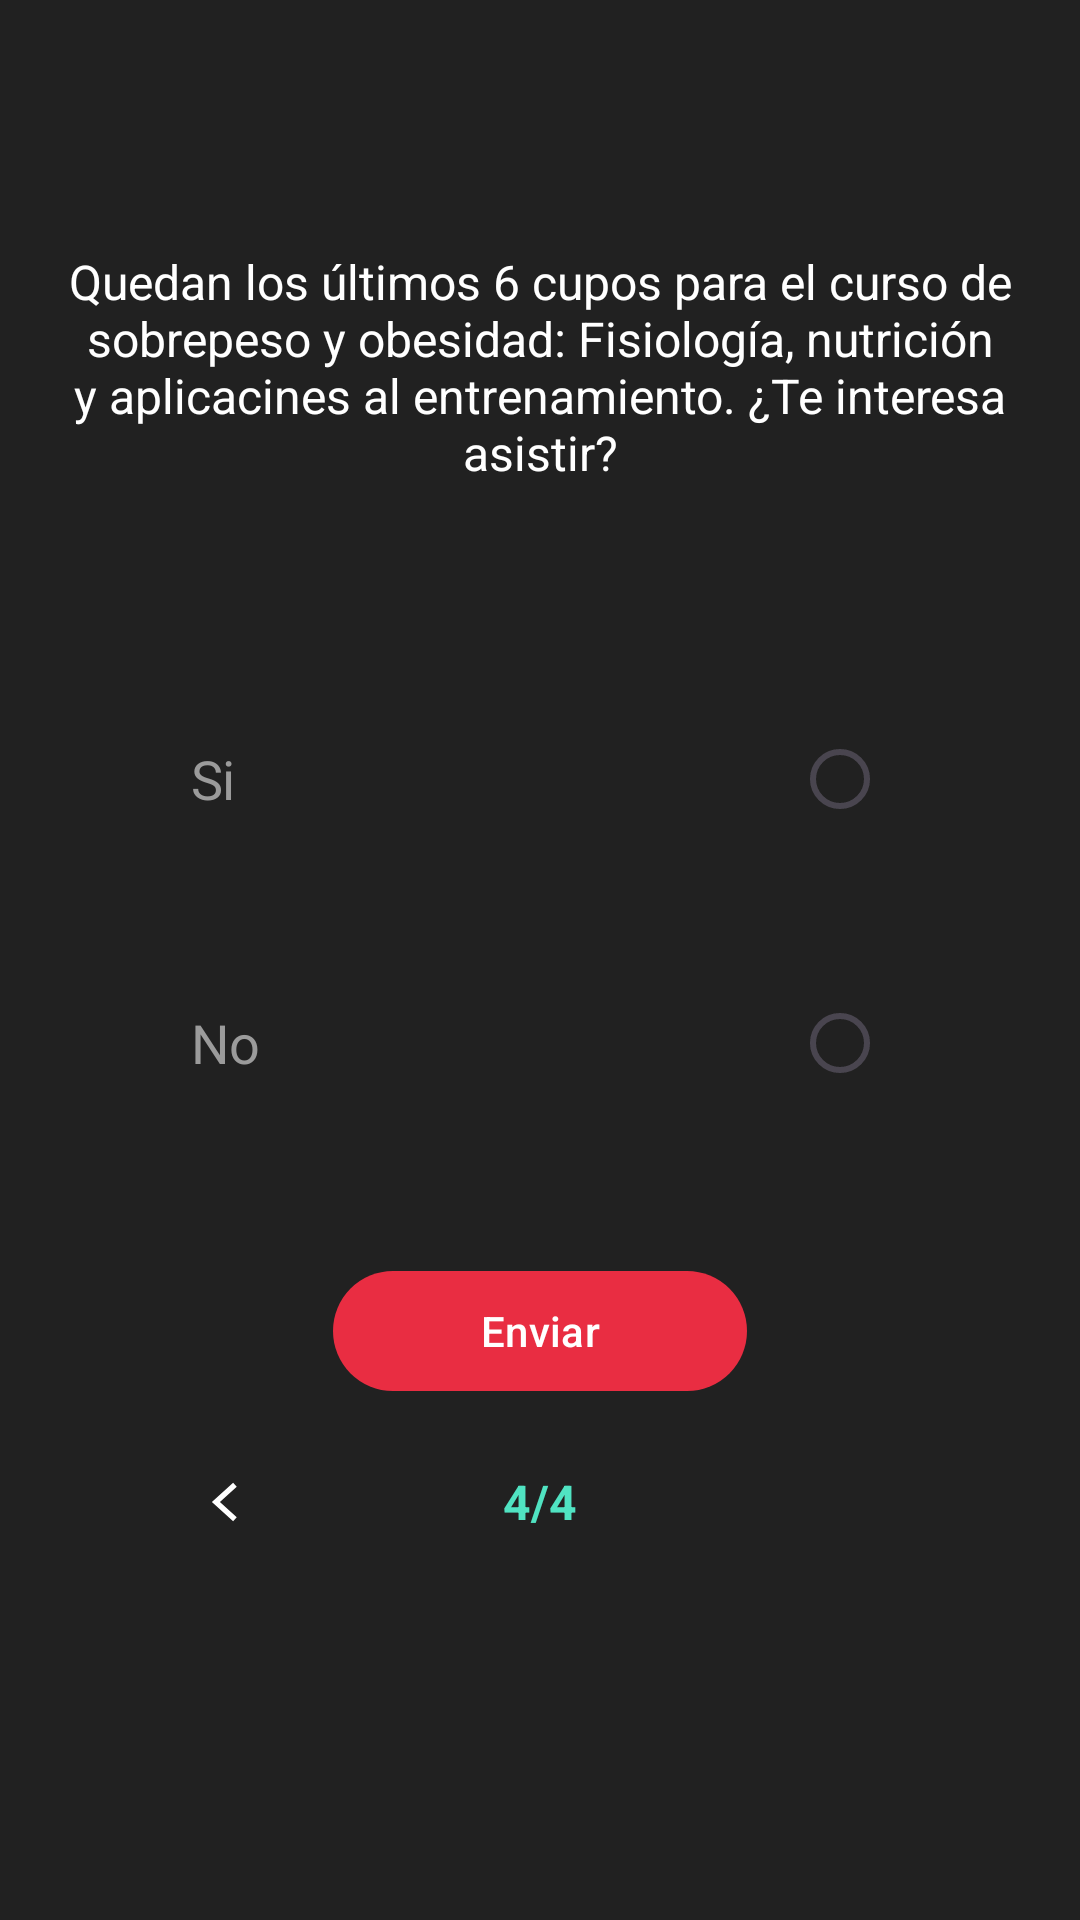

Where to tap for icons on this 1080px x 1920px app screen, as point (x, y):
left: point (224, 1502)
